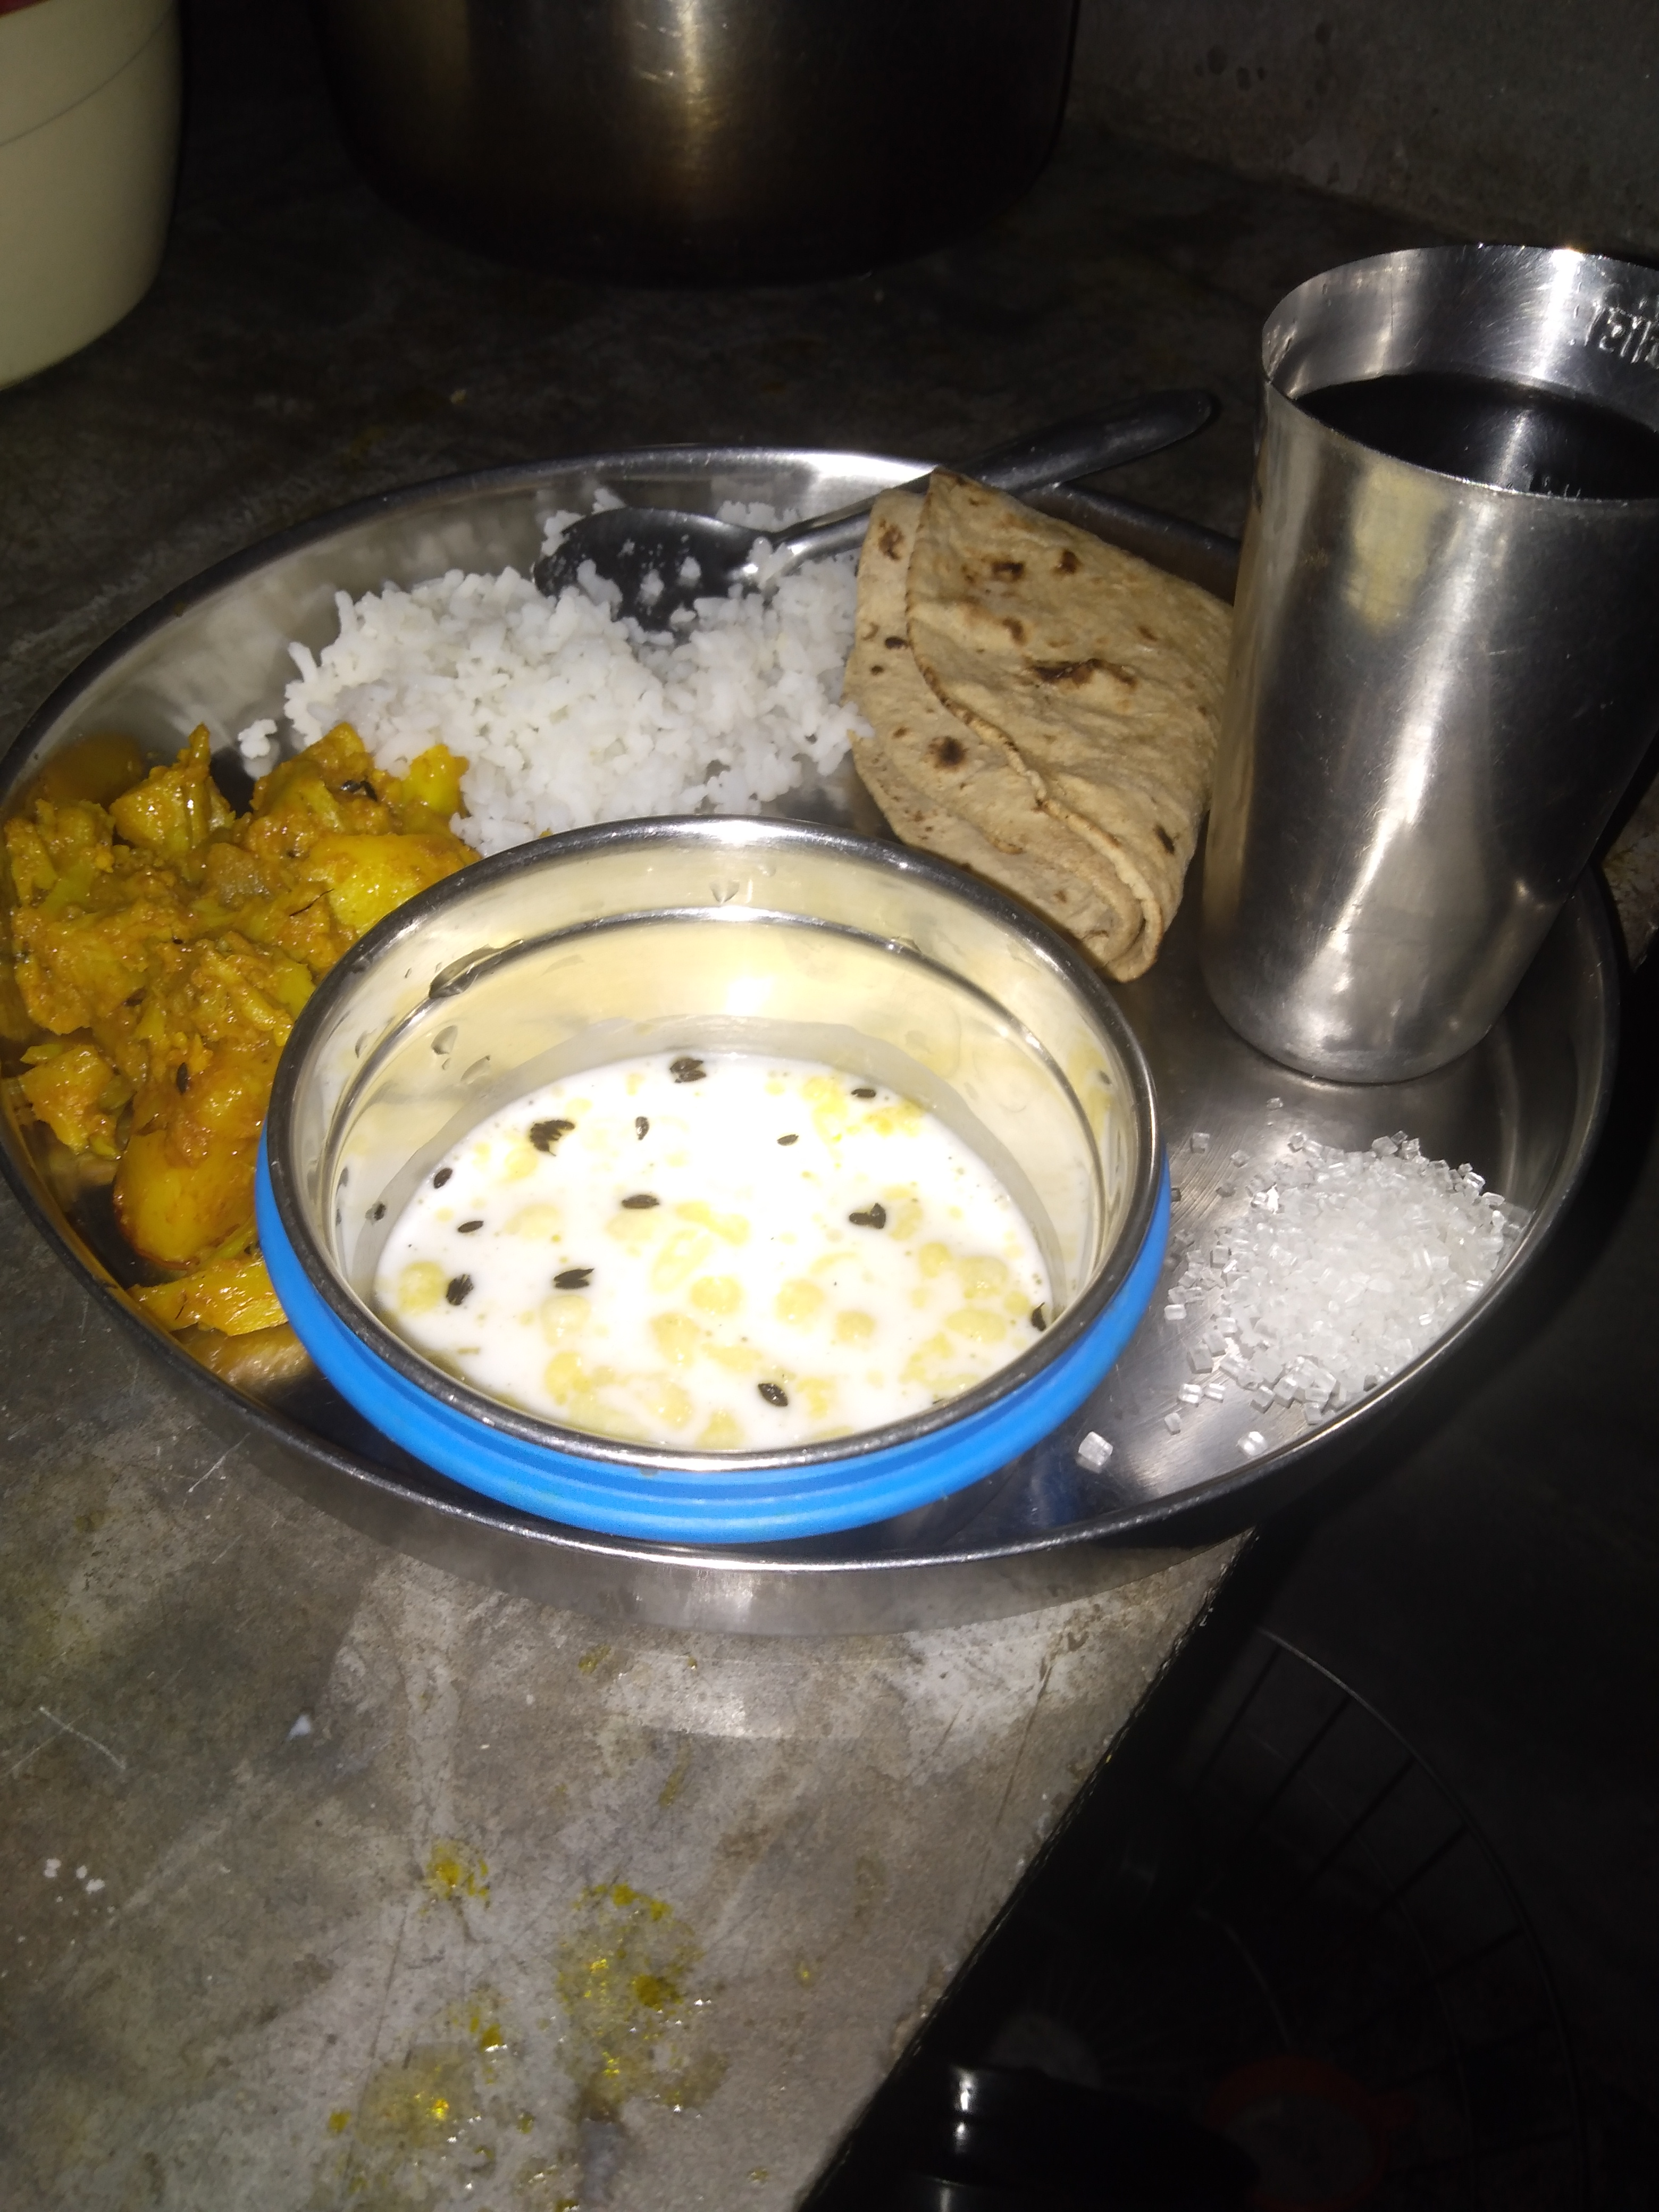food: (0, 230, 1656, 1649)
